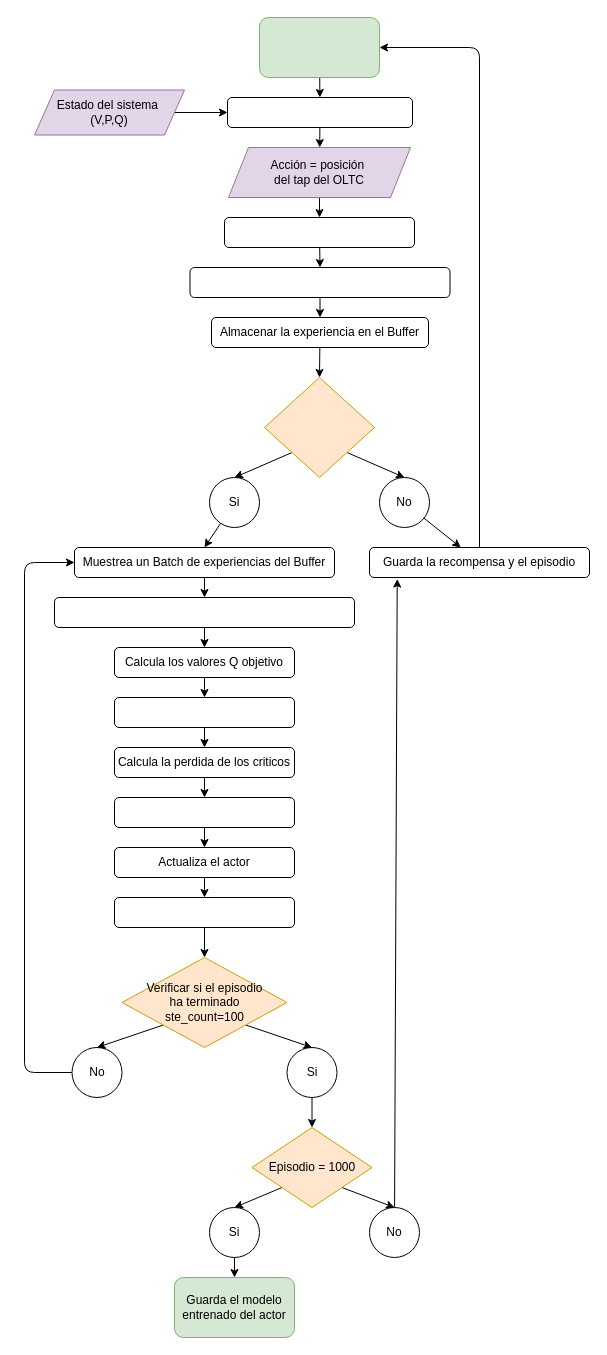
This 607x1355 diagram has some shape labels left out. The shapes that lost their labels are listed below. From the top down, each one's centre as x and y in pixels, then its label:
At pixel 319 47: "Inicia el episodio".
At pixel 319 112: "El actor selecciona una acción".
At pixel 319 232: "Se ejecuta la acción en el entorno".
At pixel 319 282: "Actualiza el estado y la recompensa acumulada".
At pixel 319 427: "¿Hay suficiente experiencia en el Buffer?".
At pixel 204 612: "Muestrea una acción del actor para el siguiente estado".
At pixel 204 712: "Calcula los valores Q actuales".
At pixel 204 812: "Actualiza los criticos".
At pixel 204 912: "Actualiza los criticos objetivos".
